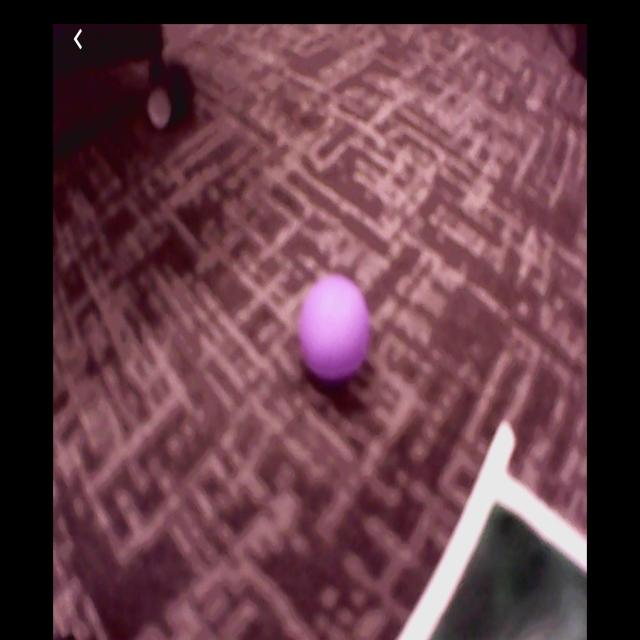ball: (299, 277, 372, 381)
